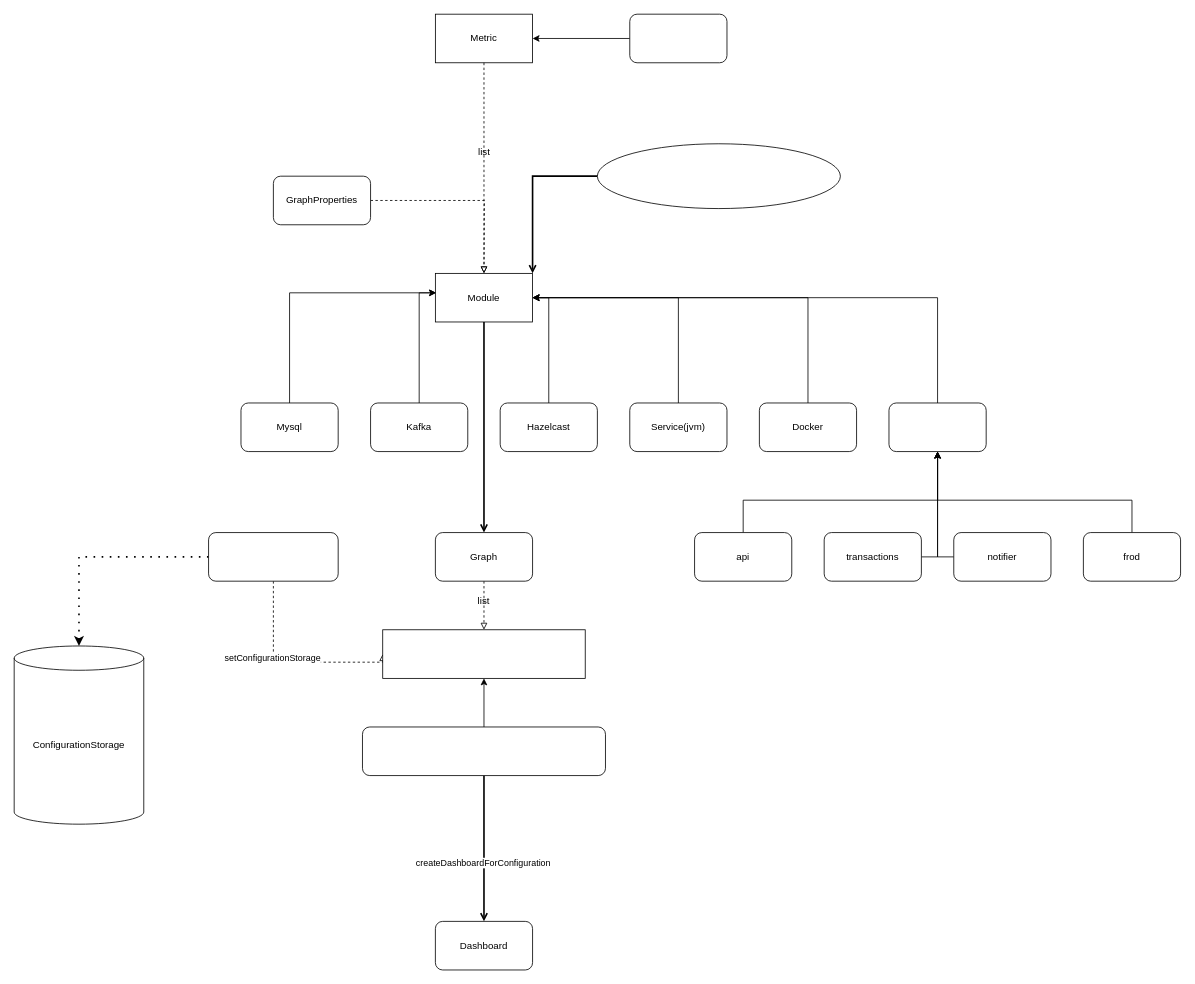
This 1195x984 diagram has some shape labels left out. Here are the shapes that lost their labels. From the top down, the centre of each, then its label:
At (x=678, y=38): "PrometheusMetric".
At (x=718, y=176): "GenerateFromAnsibleConfiguration".
At (x=937, y=427): "BusinessLogic".
At (x=273, y=556): "DashboardConfiguration".
At (x=483, y=653): "GrafanaDashboardTemplateFacade".
At (x=483, y=751): "GrafanaDashboardPrometheusFacade".
